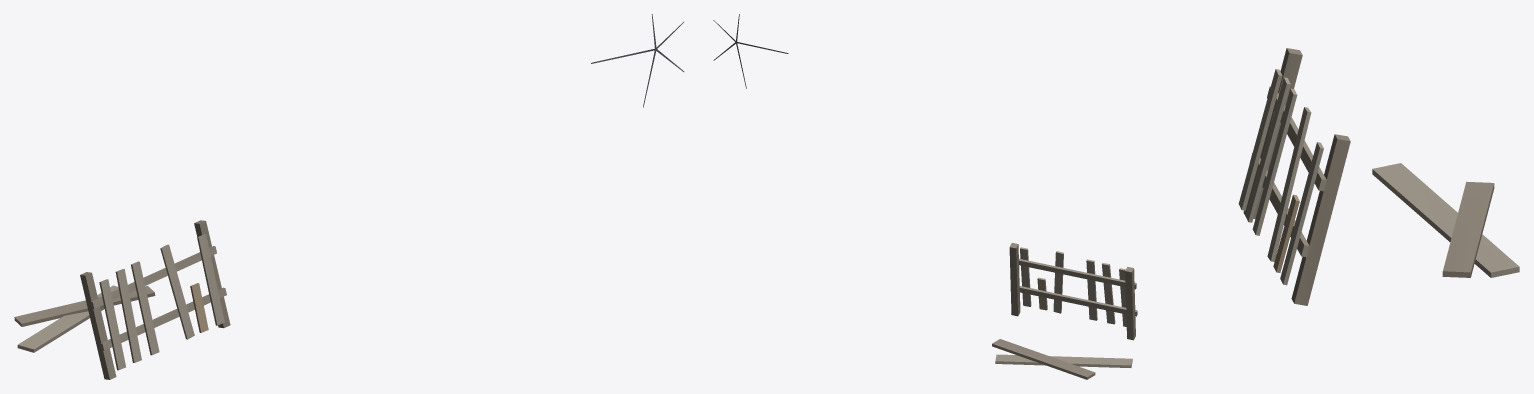
The model's file is house_worn_house_low.glb.
3 views of the same model, side by side, from view 1: azimuth 30°, elevation 25°; view 2: azimuth 150°, elevation 25°; view 3: azimuth 270°, elevation 25° (orthographic). The views are drawn at different scales.
Bounding box in the file's own units: 5.85 × 2.44 × 1.88.
